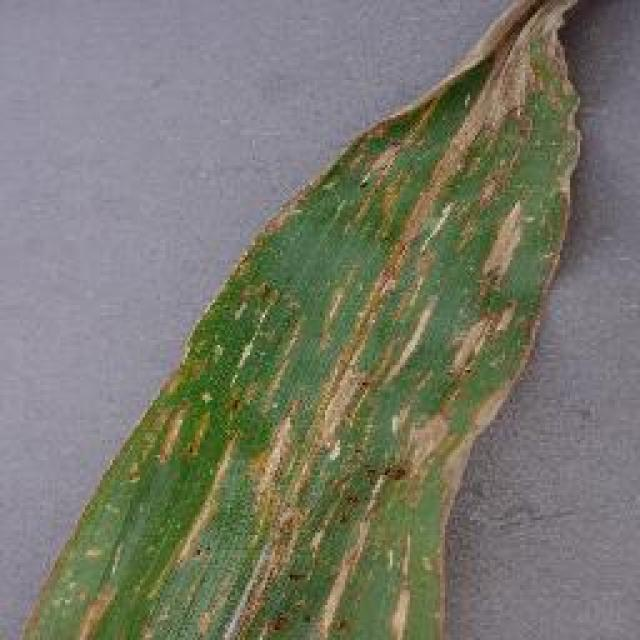Corn___Cercospora_leaf_spot Gray_leaf_spot: (0, 2, 608, 640)
